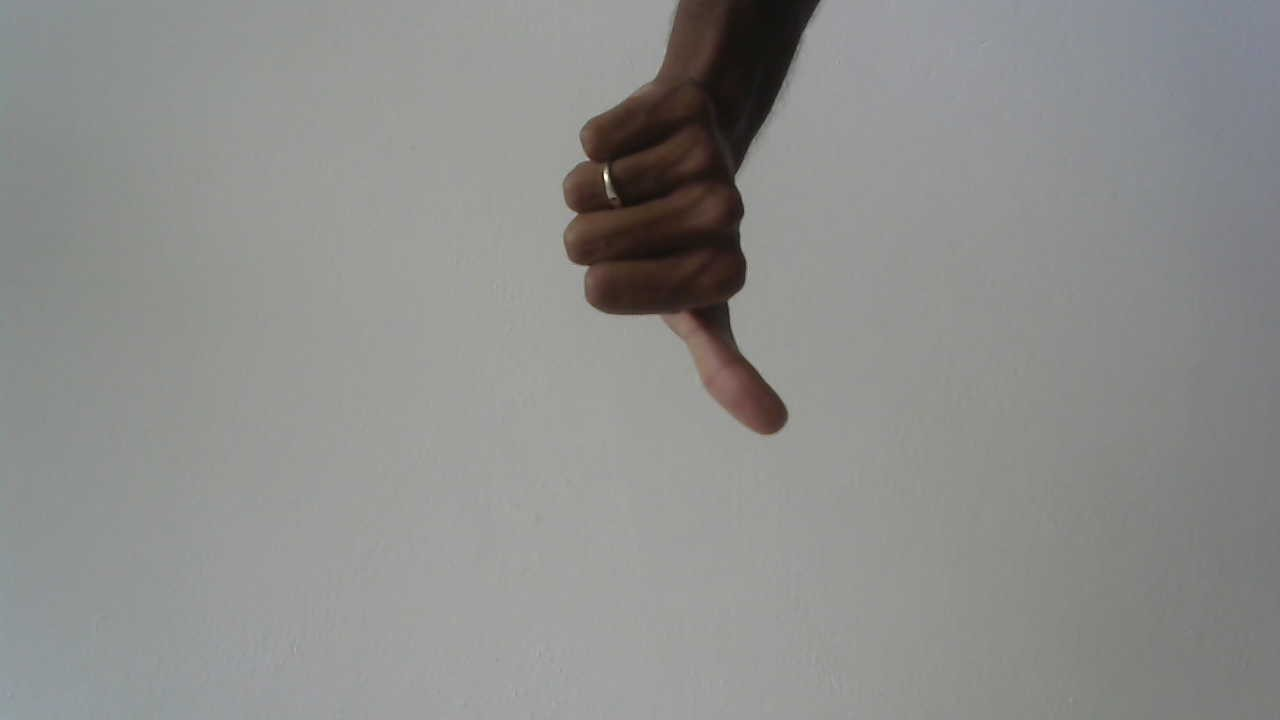thumbsdown: (556, 59, 821, 457)
